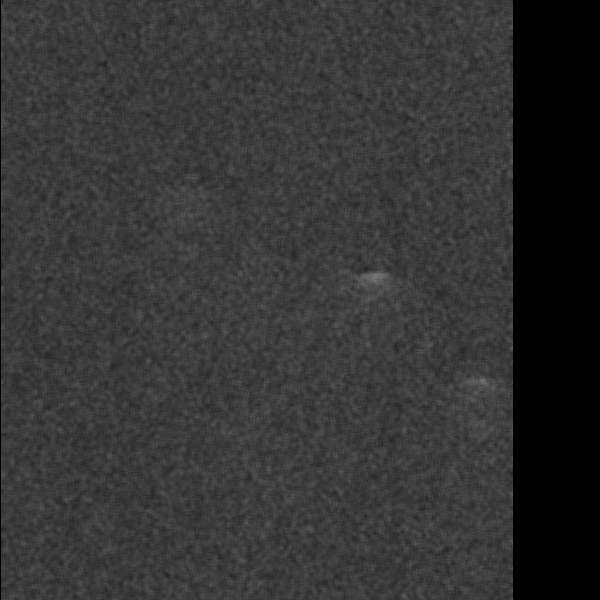spark: (352, 266, 395, 314), (467, 368, 490, 398)
